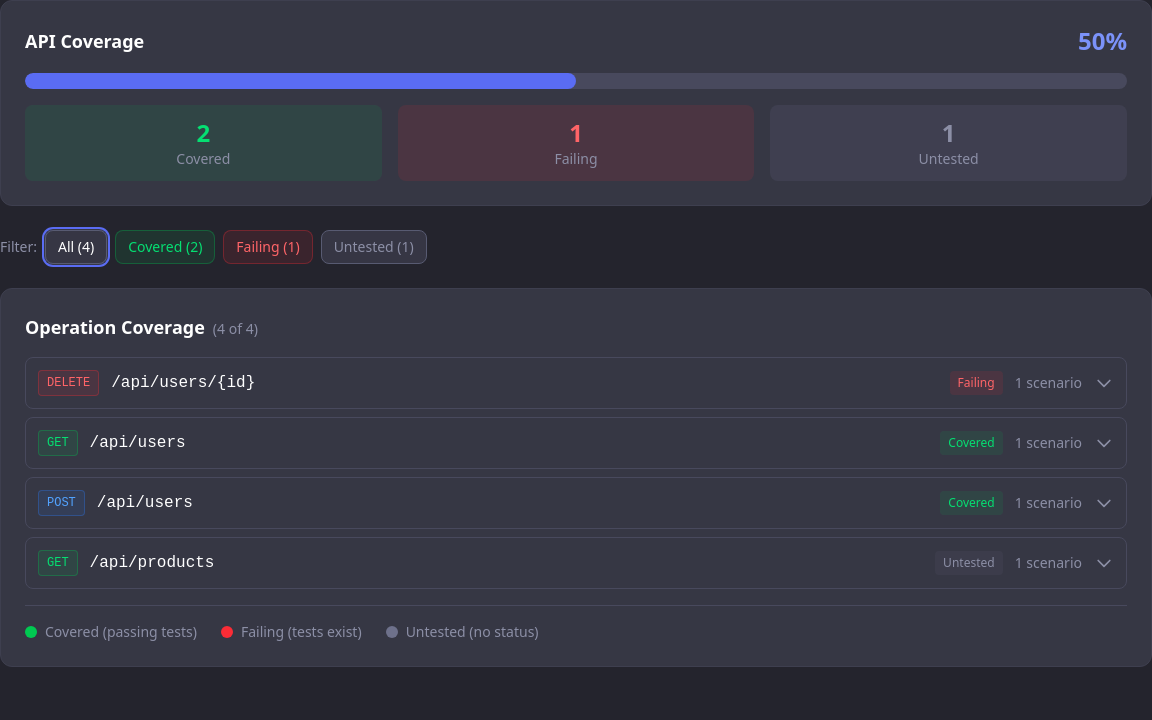
Scenario: OperationCoverageTable › expands operation to show linked scenarios
This screenshot has width=1152, height=720.
Click the button "GET /api/users Covered 1 scenario": {"x": 58, "y": 443} [26,418,1126,468]
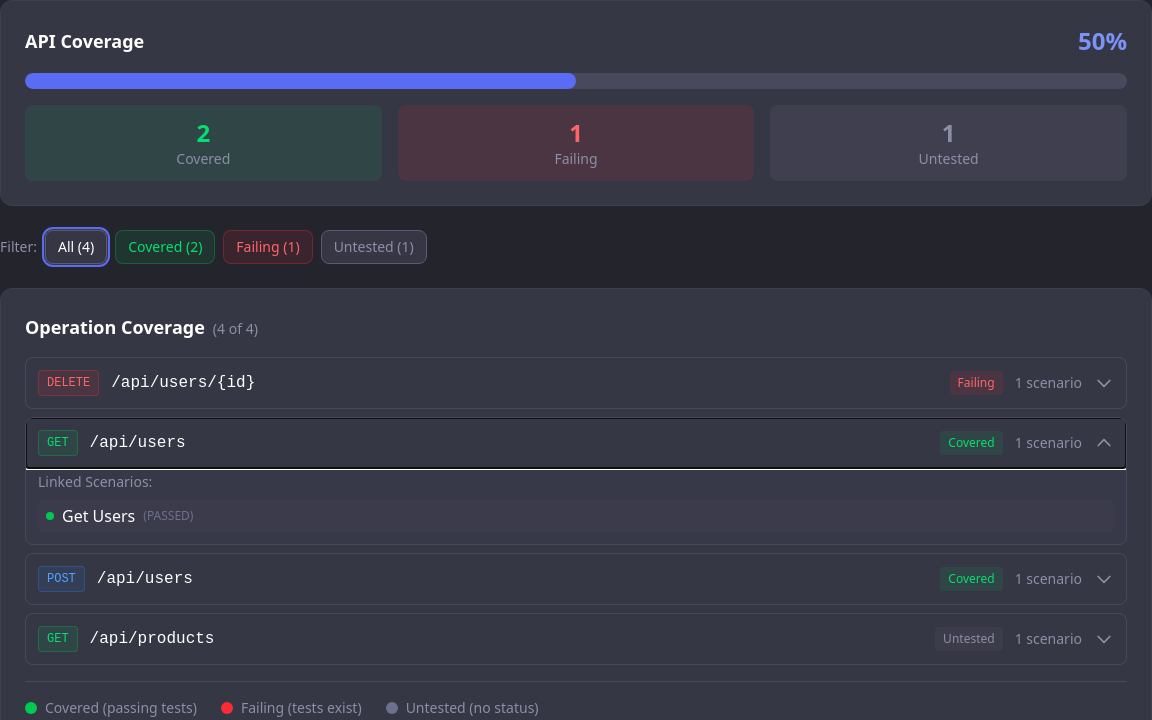
expect the element with test id "scenario-list" is shown: met, box [26,468,1126,544]
expect the text "Get Users" is shown: met, box [62,504,135,528]
